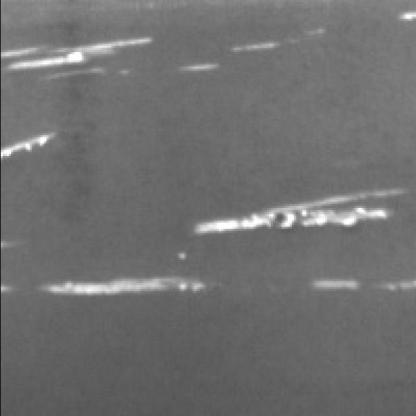scratches: (187, 181, 393, 235), (0, 27, 150, 68), (35, 266, 200, 296), (308, 268, 410, 294), (0, 125, 52, 158)
